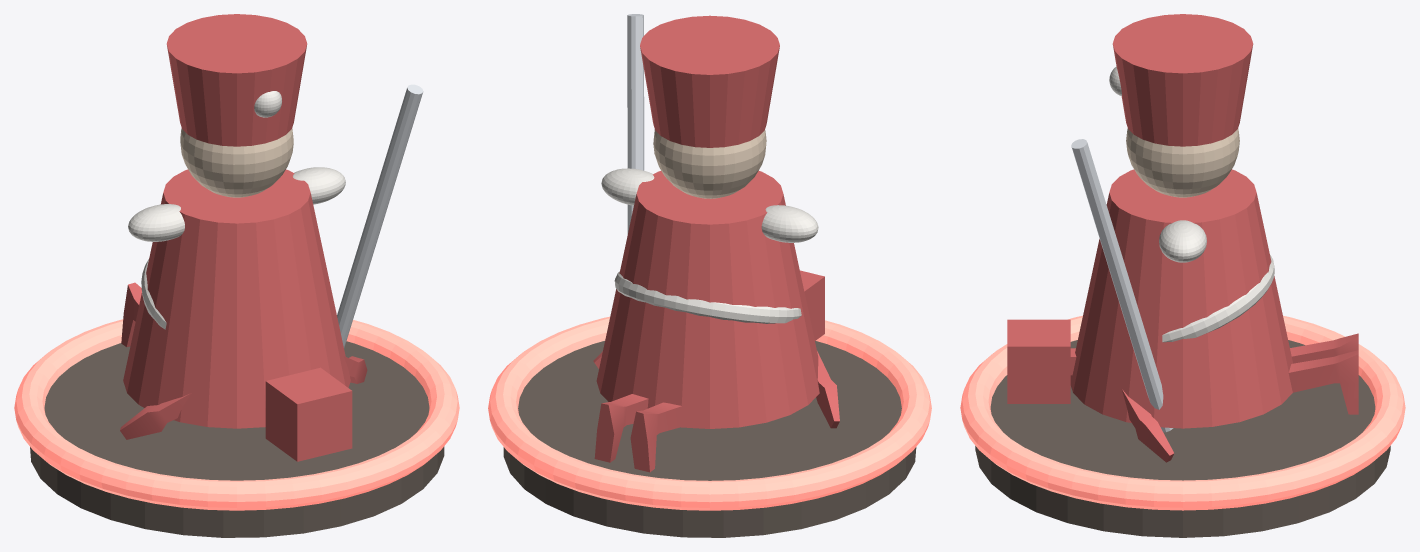
File: enemy_vanguard.glb
3 views of the same model, side by side, from view 1: azimuth 30°, elevation 25°; view 2: azimuth 150°, elevation 25°; view 3: azimuth 270°, elevation 25° (orthographic).
Parts seen in each view (by area): view 1: Cone, Cylinder, Torus, Cone.001, Proxy, Sphere.002, Cylinder.001, Sphere, Sphere.001, Sphere.003, Torus.001; view 2: Cone, Cylinder, Torus, Cone.001, Proxy, Sphere.002, Torus.001, Cylinder.001, Sphere, Sphere.001; view 3: Cone, Cylinder, Torus, Cone.001, Proxy, Sphere.002, Cylinder.001, Torus.001, Sphere.001.
Part boxes in pixels (<box>): Cone: <box>123,169,350,428</box>; Cylinder: <box>30,341,444,537</box>; Torus: <box>14,319,459,510</box>; Cone.001: <box>166,14,307,146</box>; Proxy: <box>120,282,367,461</box>; Sphere.002: <box>180,128,293,197</box>; Cylinder.001: <box>337,84,423,348</box>; Sphere: <box>128,204,184,241</box>; Sphere.001: <box>293,167,345,204</box>; Sphere.003: <box>254,91,281,117</box>; Torus.001: <box>141,259,166,329</box>; Cone: <box>596,171,819,428</box>; Cylinder: <box>503,341,916,537</box>; Torus: <box>488,316,931,510</box>; Cone.001: <box>640,15,779,147</box>; Proxy: <box>593,270,839,472</box>; Sphere.002: <box>653,129,766,198</box>; Torus.001: <box>614,271,801,323</box>; Cylinder.001: <box>627,14,644,234</box>; Sphere: <box>761,205,818,242</box>; Sphere.001: <box>601,168,654,205</box>; Cone: <box>1070,169,1292,428</box>; Cylinder: <box>975,340,1390,537</box>; Torus: <box>960,315,1405,510</box>; Cone.001: <box>1112,14,1253,146</box>; Proxy: <box>1007,319,1358,462</box>; Sphere.002: <box>1126,128,1239,197</box>; Cylinder.001: <box>1071,139,1173,432</box>; Torus.001: <box>1162,255,1274,342</box>; Sphere.001: <box>1159,220,1206,262</box>.
Size of the model in its own units: 1.33 by 1.34 by 1.33.
